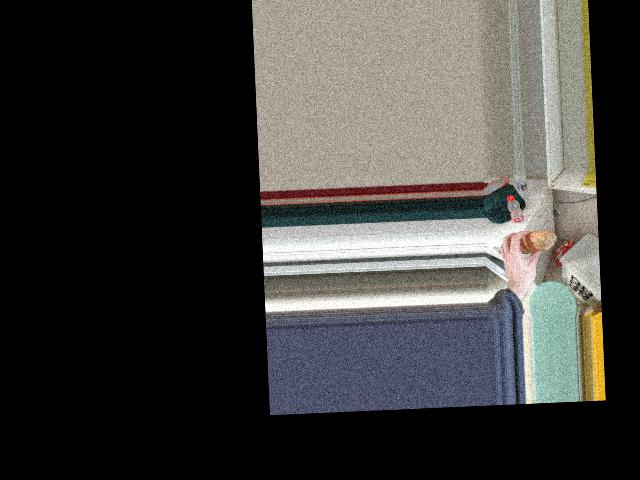sweet_potato: (509, 234, 546, 265)
